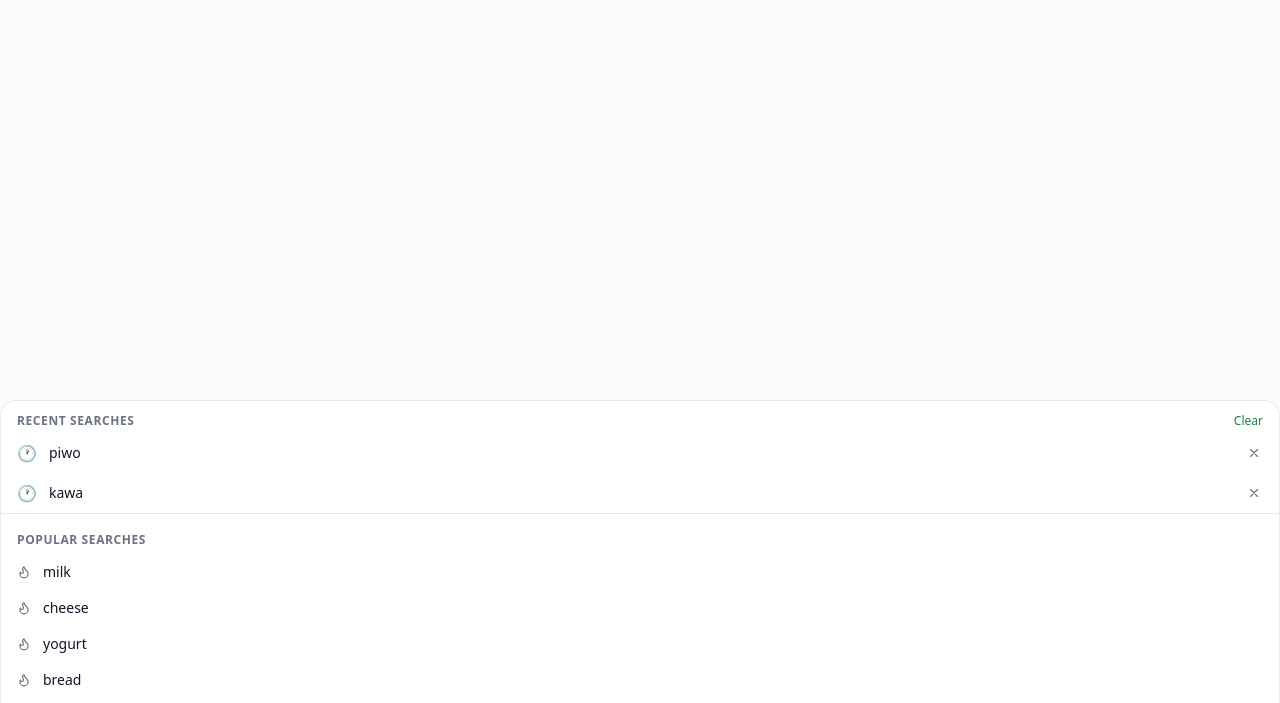
Test: SearchAutocomplete › remove button removes individual recent search
(page scrolled)
What coordinates should you click on to do the following:
click the button named "Remove piwo"
I would click on:
 (1254, 453)
Its box is [1245,444,1263,462].
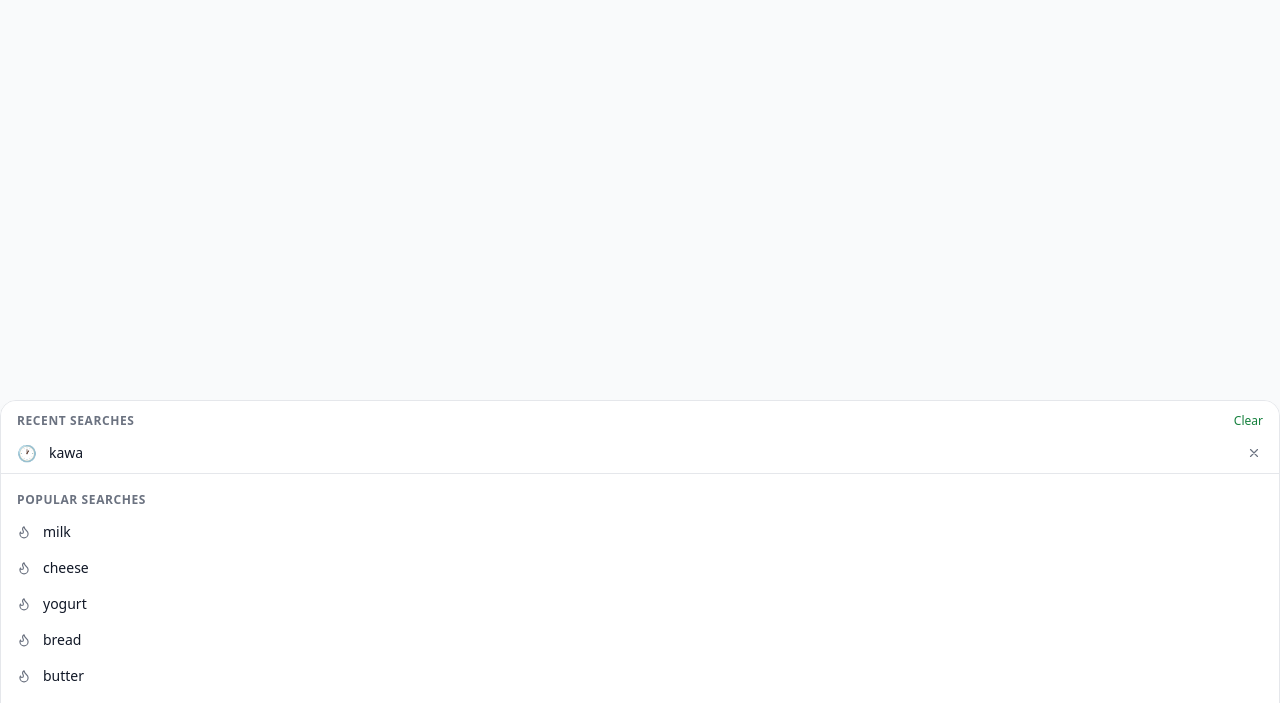
Expected: the text "kawa" is shown, [49,443,83,462]
Expected: the option "piwo" is gone
